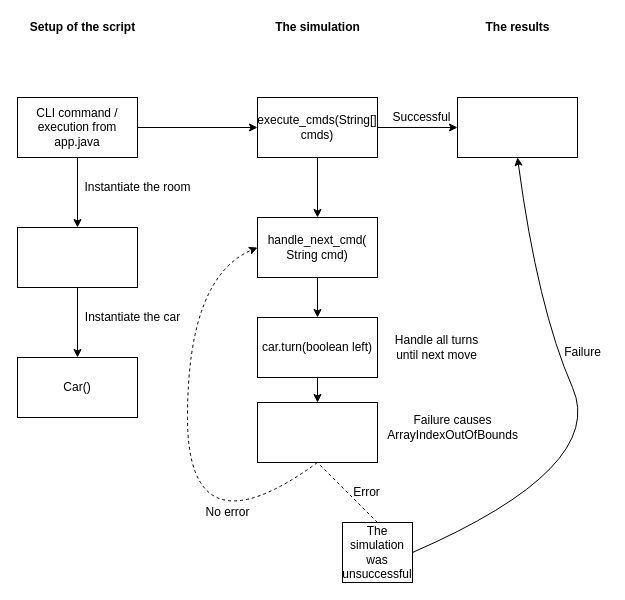
Some shapes in this 625 by 600 pixel diagram are drawn without their labels. Each missing label, with the box of its shape:
car.move(boolean forward); move_to_spot();: (256, 402, 378, 462)
Present the results: (456, 96, 578, 158)
Room(): (16, 226, 138, 288)
